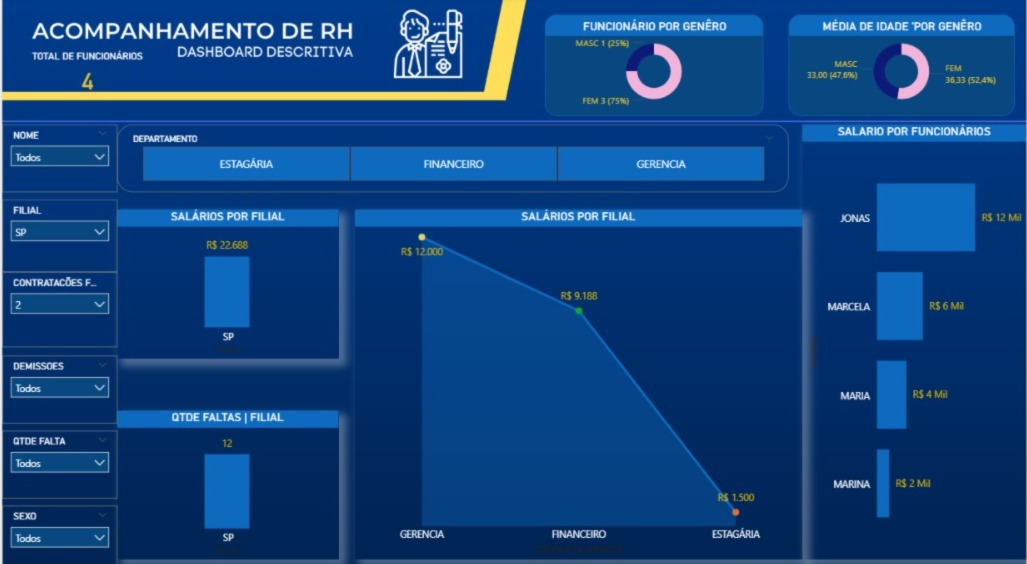

The page's visual inventory and layout, read from the dashboard file:
{"tool":"powerbi","page":{"name":"Página 1","canvas":[1280,720],"ordinal":0},"visuals":[{"type":"barChart","title":"SALARIO POR FUNCIONÁRIOS","fields":{"Category":["Table_1.NOME"],"Y":["Sum(Table_1.SALARIO)"]},"box":[1000.3,159.4,279.8,543.9],"z":0},{"type":"columnChart","title":"QTDE FALTAS | FILIAL","fields":{"Category":["Table_1.FILIAL"],"Y":["Sum(Table_1.QTDE FALTA)"]},"box":[143.8,517.3,276.6,186],"z":1000},{"type":"columnChart","title":"SALÁRIOS POR FILIAL","fields":{"Y":["Sum(Table_1.SALARIO)"],"Category":["Table_1.FILIAL"]},"box":[143.8,265.7,276.6,186],"z":2000},{"type":"areaChart","title":"SALÁRIOS POR FILIAL","fields":{"Category":["Table_1.DEPARTAMENTO"],"Y":["Sum(Table_1.SALARIO)"]},"box":[440.8,265.7,559.5,437.6],"z":3000},{"type":"slicer","fields":{"Values":["Table_1.DEPARTAMENTO"]},"box":[143.8,159.4,839.3,84.4],"z":4000},{"type":"donutChart","title":"FUNCIONÁRIO POR GENÊRO","fields":{"Category":["Table_1.SEXO"],"Y":["CountNonNull(Table_1.SEXO)"]},"box":[678.3,21.9,273.5,126.6],"z":5000},{"type":"donutChart","title":"MÉDIA DE IDADE ''POR GENÊRO","fields":{"Category":["Table_1.SEXO"],"Y":["Avg(Table_1.IDADE)"]},"box":[983.1,21.9,282.9,126.6],"z":6000},{"type":"slicer","fields":{"Values":["Table_1.NOME"]},"box":[0,159.4,143.8,84.4],"z":7000},{"type":"slicer","fields":{"Values":["Table_1.FILIAL"]},"box":[0,253.5,143.8,90.7],"z":8000},{"type":"slicer","fields":{"Values":["Table_1.CONTRATACÕES FEITAS"]},"box":[0,353.9,143.8,84.4],"z":9000},{"type":"slicer","fields":{"Values":["Table_1.DEMISSOES"]},"box":[0,448,143.8,84.4],"z":10000},{"type":"slicer","fields":{"Values":["Table_1.QTDE FALTA"]},"box":[0,542,143.8,84.4],"z":11000},{"type":"slicer","fields":{"Values":["Table_1.SEXO"]},"box":[0,635.6,143.8,84.4],"z":12000},{"type":"card","title":"TOTAL DE FUNCIONÁRIOS","fields":{"Values":["Count(Table_1.ID)"]},"box":[0,67.2,212.6,57.8],"z":12001}]}

Visuals, with their boxes in screenshot pixels (x1, y1, x2, y2), scaled from the page's 1280x720 canvas onto the 1027x564 screenshot:
"SALARIO POR FUNCIONÁRIOS" barChart: [803,125,1026,551]
"QTDE FALTAS | FILIAL" columnChart: [115,405,337,551]
"SALÁRIOS POR FILIAL" columnChart: [115,208,337,354]
"SALÁRIOS POR FILIAL" areaChart: [354,208,803,551]
slicer - Table_1.DEPARTAMENTO: [115,125,789,191]
"FUNCIONÁRIO POR GENÊRO" donutChart: [544,17,764,116]
"MÉDIA DE IDADE ''POR GENÊRO" donutChart: [789,17,1016,116]
slicer - Table_1.NOME: [0,125,115,191]
slicer - Table_1.FILIAL: [0,199,115,270]
slicer - Table_1.CONTRATACÕES FEITAS: [0,277,115,343]
slicer - Table_1.DEMISSOES: [0,351,115,417]
slicer - Table_1.QTDE FALTA: [0,425,115,491]
slicer - Table_1.SEXO: [0,498,115,563]
"TOTAL DE FUNCIONÁRIOS" card: [0,53,171,98]
